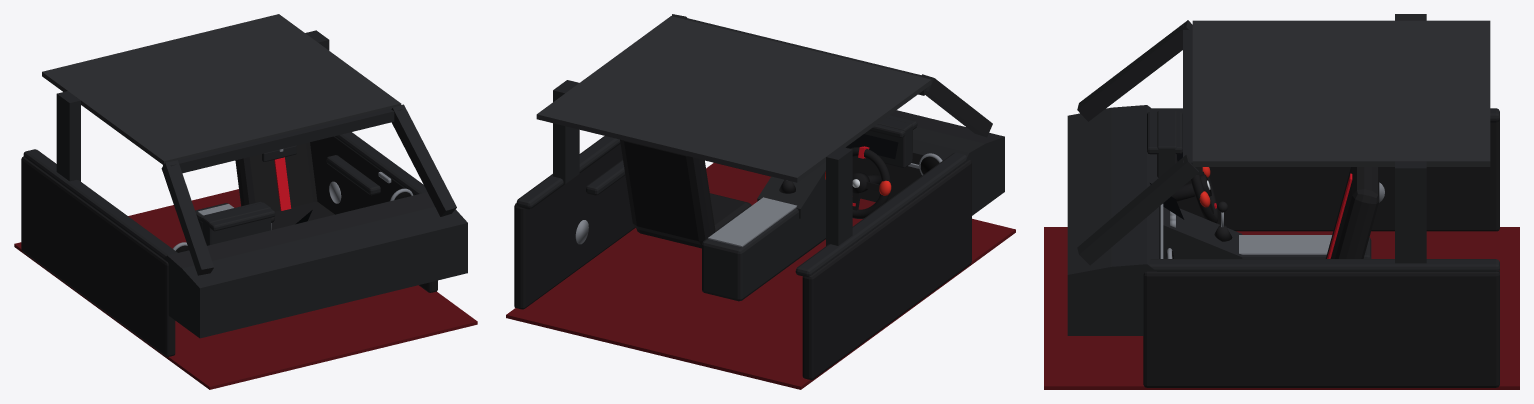
Rendered from int_toyota.glb.
3 views of the same model, side by side, from view 1: azimuth 30°, elevation 25°; view 2: azimuth 150°, elevation 25°; view 3: azimuth 270°, elevation 25° (orthographic). The views are drawn at different scales.
Visible parts, largest first — view 1: box.012, Dash, box.016, box.001, box.005, box.019, box.011, box.002, beam.001, beam, box.009, box.033 (+5 smaller); view 2: box.012, box.016, box.001, box.005, box.019, box.017, Dash, box.002, box.009, box.018, Stack, box.010 (+9 smaller); view 3: box.012, box.005, Dash, box.016, box.001, box.006, box.010, beam.001, box.019, Stack, beam, box.018 (+5 smaller).
Boxes of the visible parts, x1,y1,x2,y2 form: box.012: (42, 14, 401, 164); Dash: (163, 192, 467, 338); box.016: (14, 189, 477, 389); box.001: (21, 156, 175, 357); box.005: (310, 136, 437, 292); box.019: (235, 142, 317, 211); box.011: (163, 108, 402, 173); box.002: (23, 149, 177, 260); beam.001: (391, 104, 456, 216); beam: (161, 160, 214, 275); box.009: (56, 91, 80, 181); box.033: (202, 202, 271, 245); box.012: (536, 16, 931, 182); box.016: (506, 163, 1015, 389); box.001: (802, 160, 971, 380); box.005: (514, 144, 635, 309); box.019: (620, 139, 715, 244); box.017: (702, 200, 825, 301); Dash: (705, 110, 1004, 215); box.002: (795, 152, 969, 276); box.009: (826, 146, 852, 245); box.018: (708, 197, 796, 246); Stack: (757, 162, 825, 218); box.010: (553, 80, 579, 183); box.012: (1192, 20, 1490, 166); box.005: (1143, 271, 1499, 387); Dash: (1067, 105, 1160, 335); box.016: (1044, 227, 1519, 389); box.001: (1177, 120, 1499, 231); box.006: (1149, 259, 1499, 271); box.010: (1395, 161, 1426, 263); beam.001: (1077, 154, 1198, 265); box.019: (1325, 167, 1379, 258); Stack: (1163, 207, 1242, 258); beam: (1077, 20, 1192, 121); box.018: (1239, 235, 1331, 254).
Bounding box in the file's own units: 1.93 × 1.22 × 2.4.
